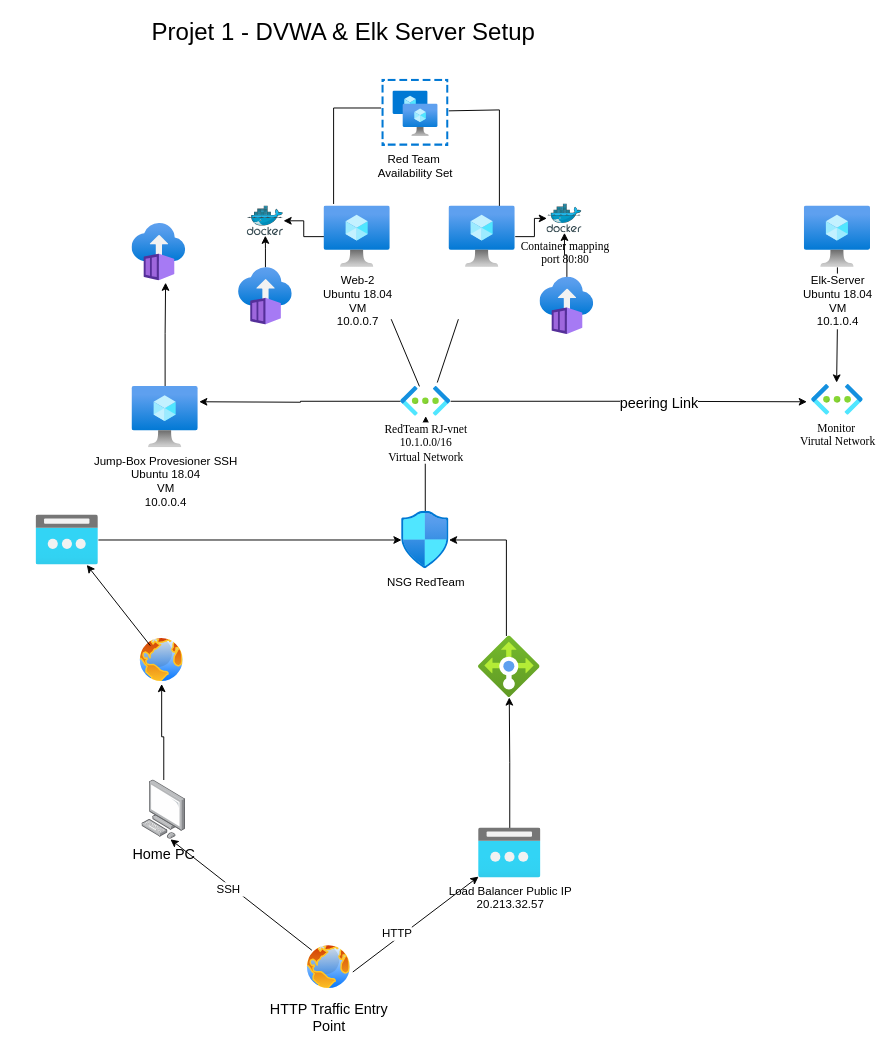
Image size: 891x1051. Some labels were removed from this diagram. Each missing label, with the centre of its shape:
"Ansiable docker container" belongs at pixel 158 252.
"Container mapping prot 80:80" belongs at pixel 265 220.
"Jump-Box Public IP 20.213.73.183" belongs at pixel 67 539.
"Load Balancer" belongs at pixel 509 666.
"SSH Traffic" belongs at pixel 161 660.
"Web-1 Ubuntu 18.04 VM 10.0.0.6" belongs at pixel 482 236.
